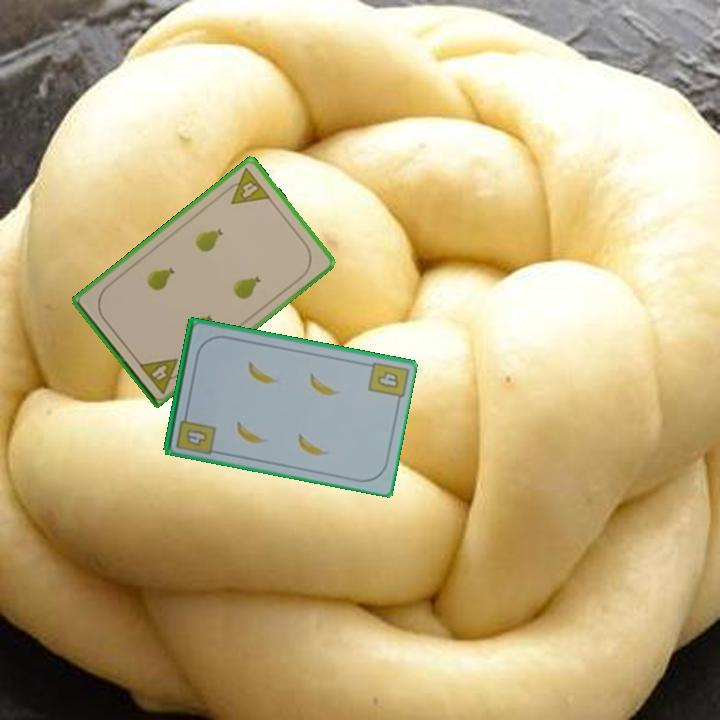4b: (173, 408, 218, 458), (374, 367, 402, 391)
4p: (219, 164, 273, 207), (135, 354, 188, 397)
